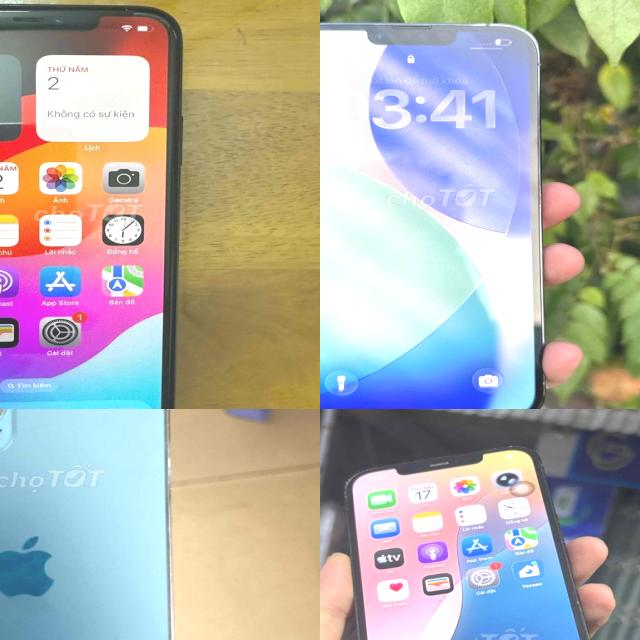gen_11: (0, 0, 205, 409)
gen_12_13: (320, 23, 546, 409), (339, 445, 613, 640), (0, 409, 177, 640)
